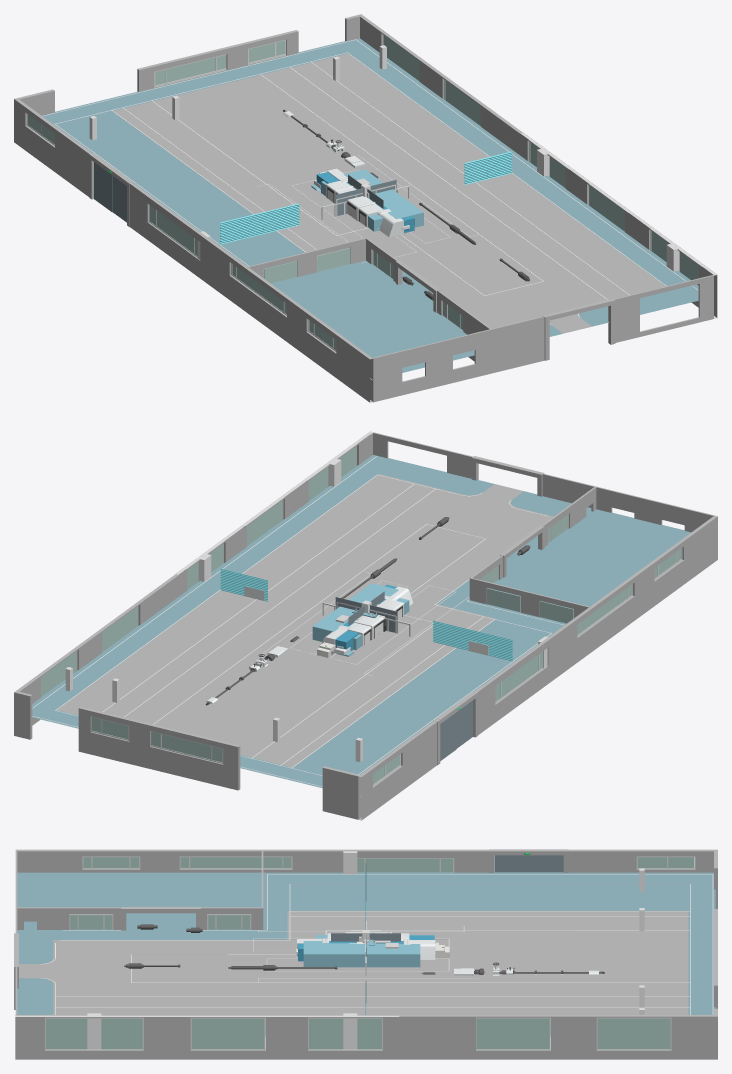
The model's file is 1车间模型.glb.
3 views of the same model, one above another, from view 1: azimuth 30°, elevation 25°; view 2: azimuth 150°, elevation 25°; view 3: azimuth 270°, elevation 25° (orthographic).
Visible parts, largest first — view 1: part2_02, 对象004, part2_72, part2_58, part2_04, part2_290, part2_03, part2_97, part2_79; view 2: part2_02, 对象004, part2_72, part2_58, part2_290, part2_04, part2_03, part2_97, part2_67; view 3: part2_02, 对象004, part2_72, part2_58, part2_290, part2_03, part2_97, part2_67, part2_46, part2_78.
Part boxes in pixels (x1,y1,x2,y2): part2_02: (42, 38, 698, 380); 对象004: (14, 14, 717, 402); part2_72: (27, 35, 717, 351); part2_58: (42, 39, 698, 324); part2_04: (220, 151, 511, 244); part2_290: (311, 169, 423, 231); part2_03: (89, 45, 679, 271); part2_97: (283, 110, 529, 300); part2_79: (369, 198, 414, 237); part2_02: (32, 455, 690, 797); 对象004: (14, 432, 717, 820); part2_72: (41, 431, 682, 785); part2_58: (32, 456, 564, 786); part2_290: (312, 583, 409, 656); part2_04: (220, 569, 512, 661); part2_03: (65, 458, 547, 762); part2_97: (205, 517, 530, 705); part2_67: (260, 571, 469, 676); part2_02: (17, 872, 715, 1036); 对象004: (14, 849, 717, 1059); part2_72: (15, 853, 695, 1050); part2_58: (40, 874, 713, 1034); part2_290: (303, 931, 438, 967); part2_03: (87, 851, 644, 1049); part2_97: (124, 924, 604, 975); part2_67: (253, 926, 478, 982); part2_46: (331, 933, 400, 941); part2_78: (296, 935, 435, 955).
Size of what is drawn, in the model's own units: 1187638 by 151794 by 2105055.
